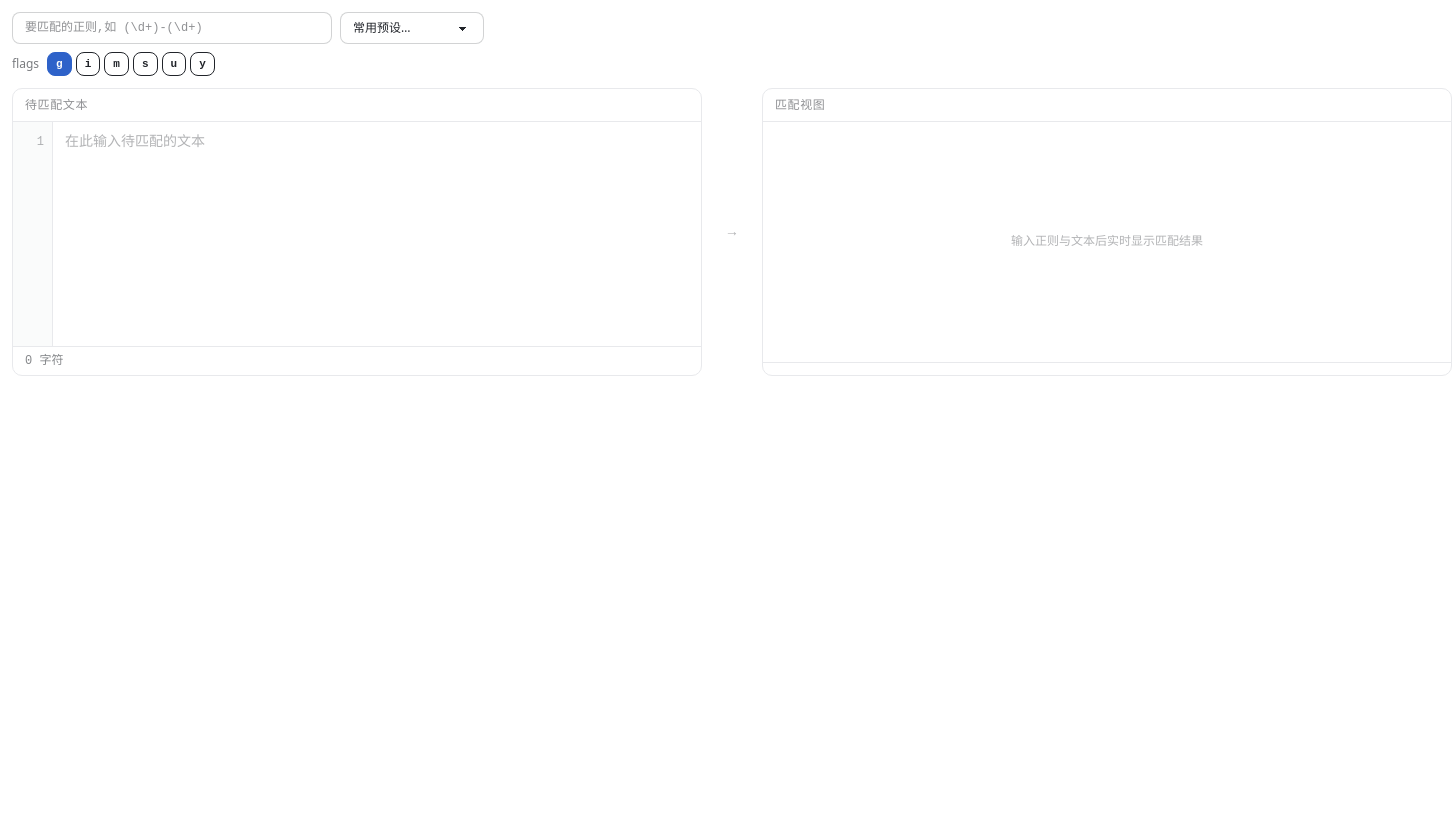
Test: RegexMatch 重做(FE4):核心实时壳 › 空正则立即复位空闲态,不等防抖窗口
Type "\\d+" into the field with placeholder "要匹配的正则,如 (\\d+)-(\\d+)" at (172, 28), box [12,12,332,44]
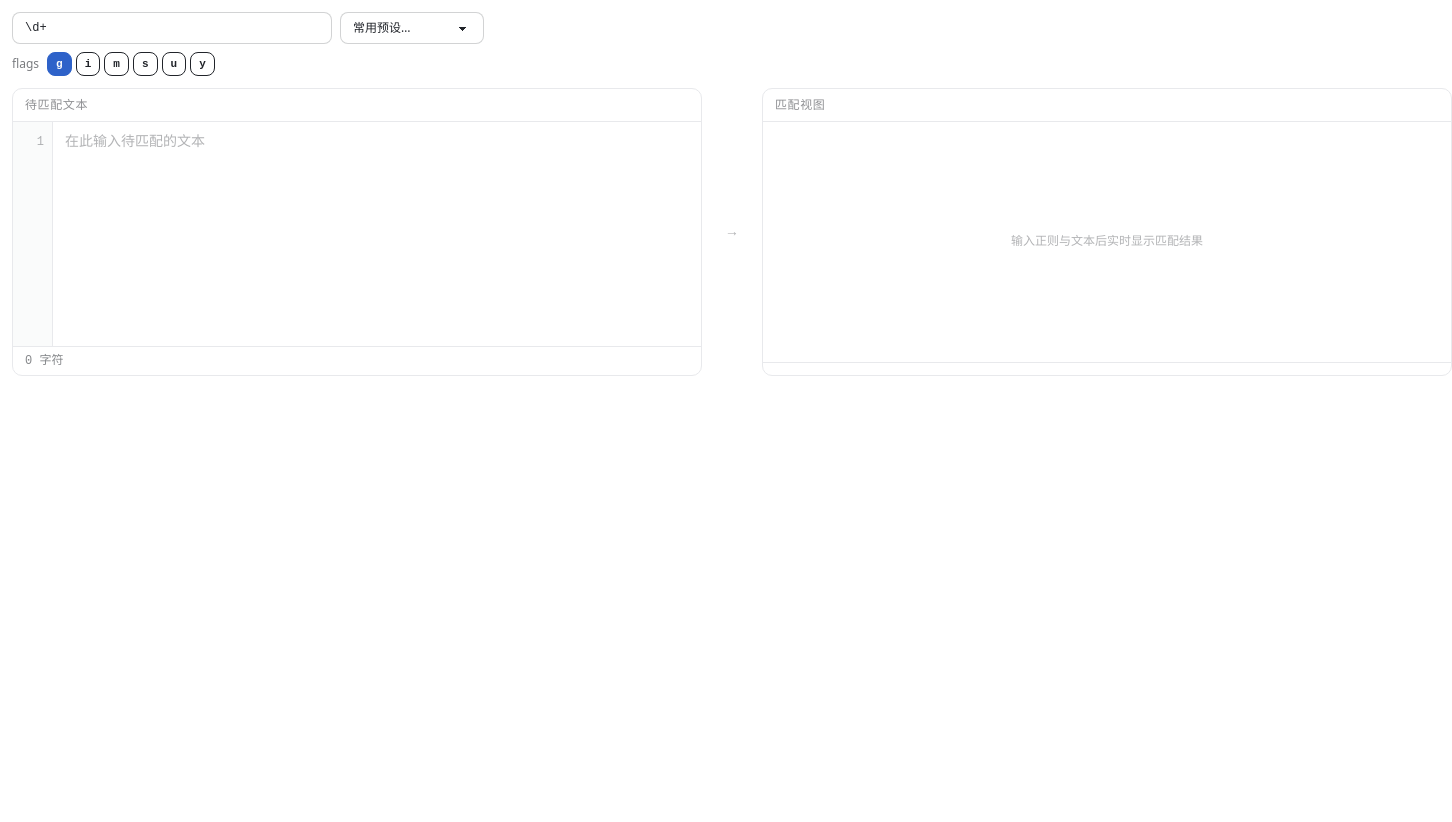
Type "a1 b2" into the text box with placeholder "在此输入待匹配的文本" at (377, 234), box [53,122,701,346]
Wait 150 ms
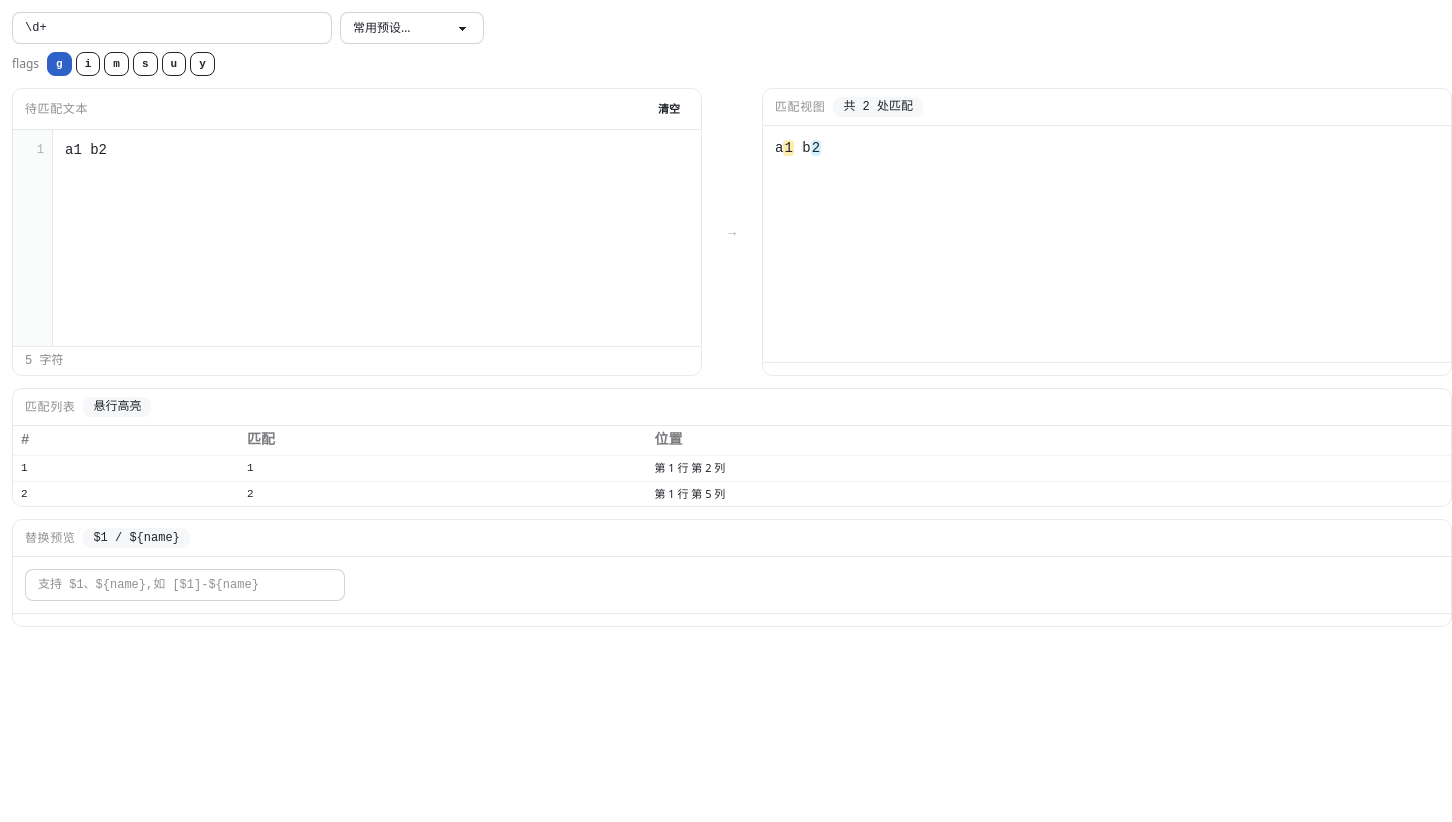
expect the text "共 2 处匹配" is shown: met, box [833,97,923,117]
Clear the 1st field at (172, 28), box [12,12,332,44]
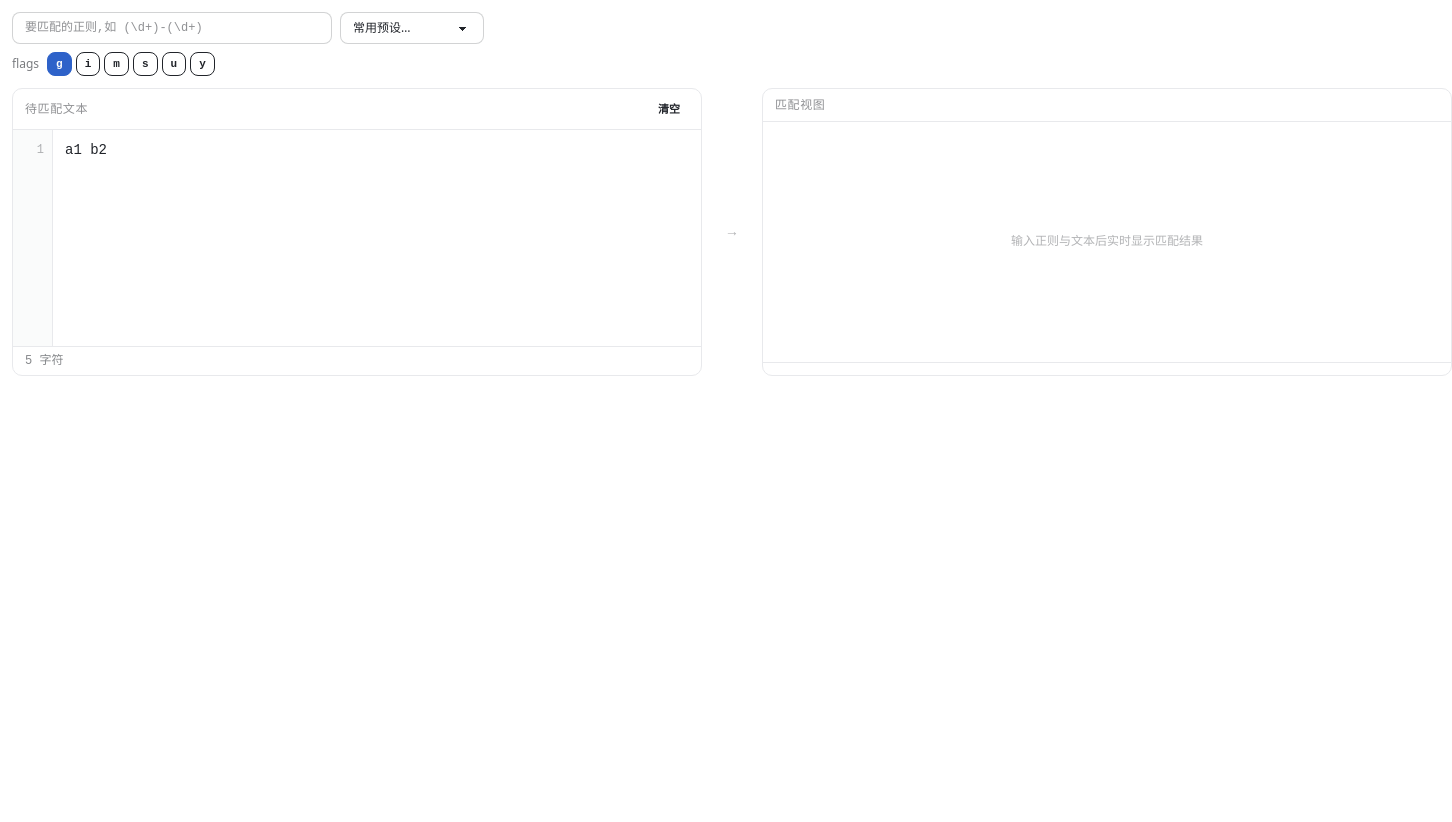
expect the text "共 2 处匹配" is gone: met
